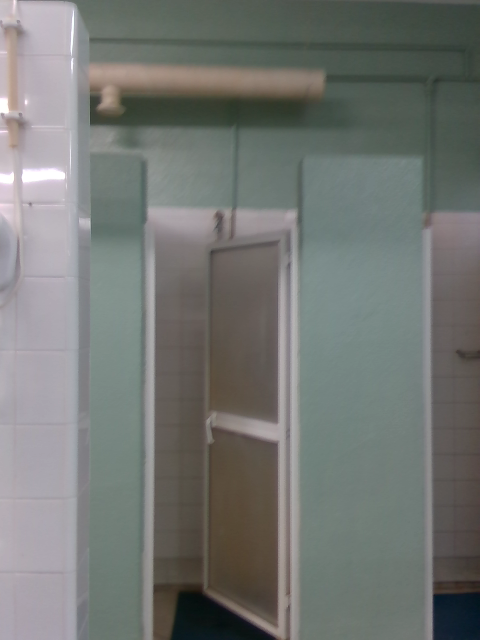semi: (203, 225, 306, 637)
